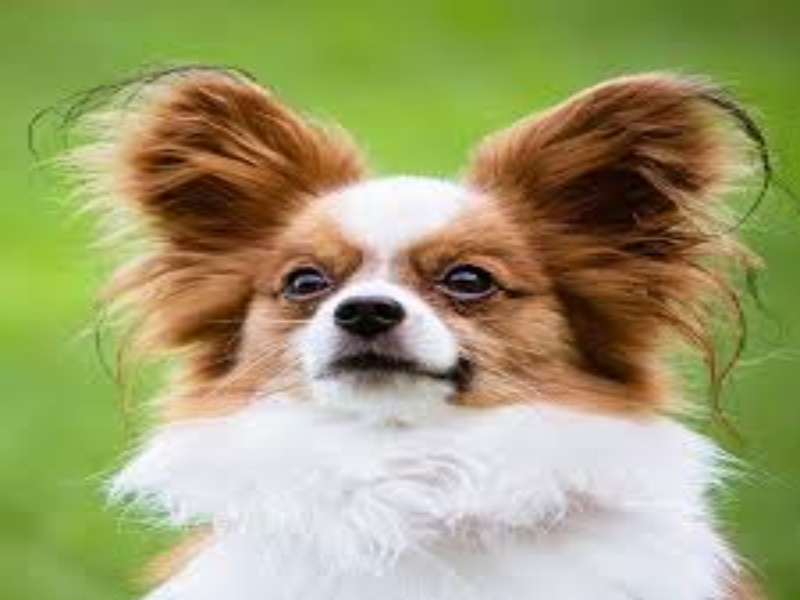dog: (28, 58, 784, 584)
